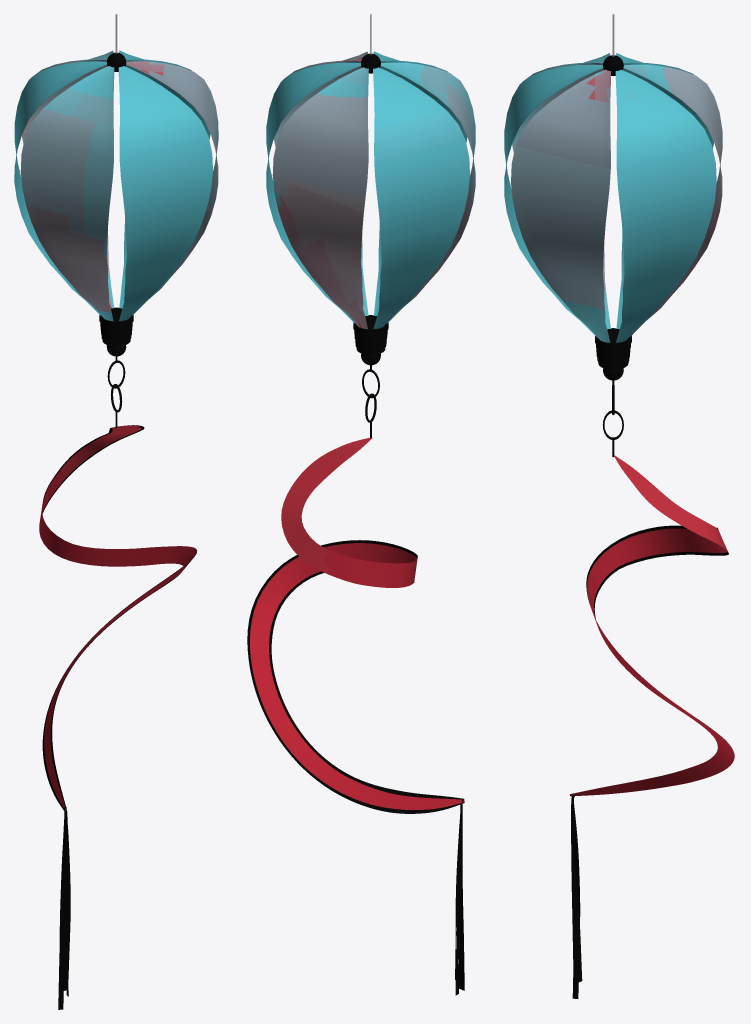
File: 1779299991856_热气球.glb
3 renders of one model, left to right at view 1: azimuth 30°, elevation 25°; view 2: azimuth 150°, elevation 25°; view 3: azimuth 270°, elevation 25°, orthographic. The views are drawn at different scales.
Visible parts, largest first — view 1: zhuti mian1, polySurface12 daizi1, mian1 suizi, polySurface11, mian1 heikuai; view 2: zhuti mian1, polySurface12 daizi1, polySurface11, mian1 suizi, mian1 heikuai; view 3: zhuti mian1, polySurface12 daizi1, mian1 suizi, mian1 heikuai, polySurface11.
Part boxes in pixels (left/top/right/bottom): zhuti mian1: left=14, top=50, right=218, bottom=321; polySurface12 daizi1: left=39, top=425, right=196, bottom=811; mian1 suizi: left=58, top=807, right=70, bottom=1009; polySurface11: left=42, top=425, right=183, bottom=811; mian1 heikuai: left=99, top=307, right=133, bottom=346; zhuti mian1: left=266, top=51, right=475, bottom=329; polySurface12 daizi1: left=250, top=437, right=464, bottom=809; polySurface11: left=247, top=540, right=464, bottom=813; mian1 suizi: left=455, top=799, right=464, bottom=995; mian1 heikuai: left=353, top=315, right=388, bottom=354; zhuti mian1: left=504, top=53, right=722, bottom=342; polySurface12 daizi1: left=569, top=455, right=734, bottom=796; mian1 suizi: left=571, top=794, right=582, bottom=998; mian1 heikuai: left=595, top=328, right=631, bottom=369; polySurface11: left=586, top=525, right=728, bottom=619.
Bounding box in the file's own units: 0.00605 × 0.0281 × 0.00574.
9 materials, 7 textured.
